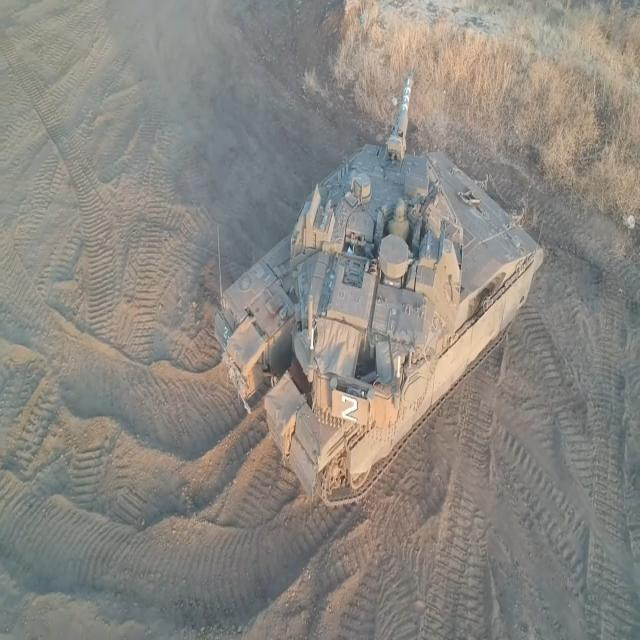tank: (198, 70, 552, 514)
